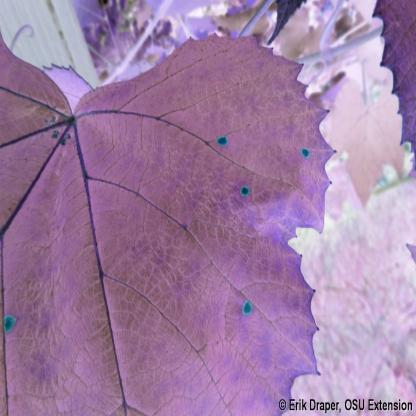grape leaf black rot: (0, 30, 337, 383)
